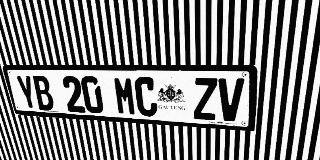0: (80, 76, 104, 114)
2: (61, 76, 86, 113)
B: (31, 75, 55, 111)
C: (134, 77, 158, 117)
M: (113, 77, 137, 116)
V: (218, 78, 244, 122)
Y: (15, 75, 39, 110)
Z: (193, 78, 217, 120)
